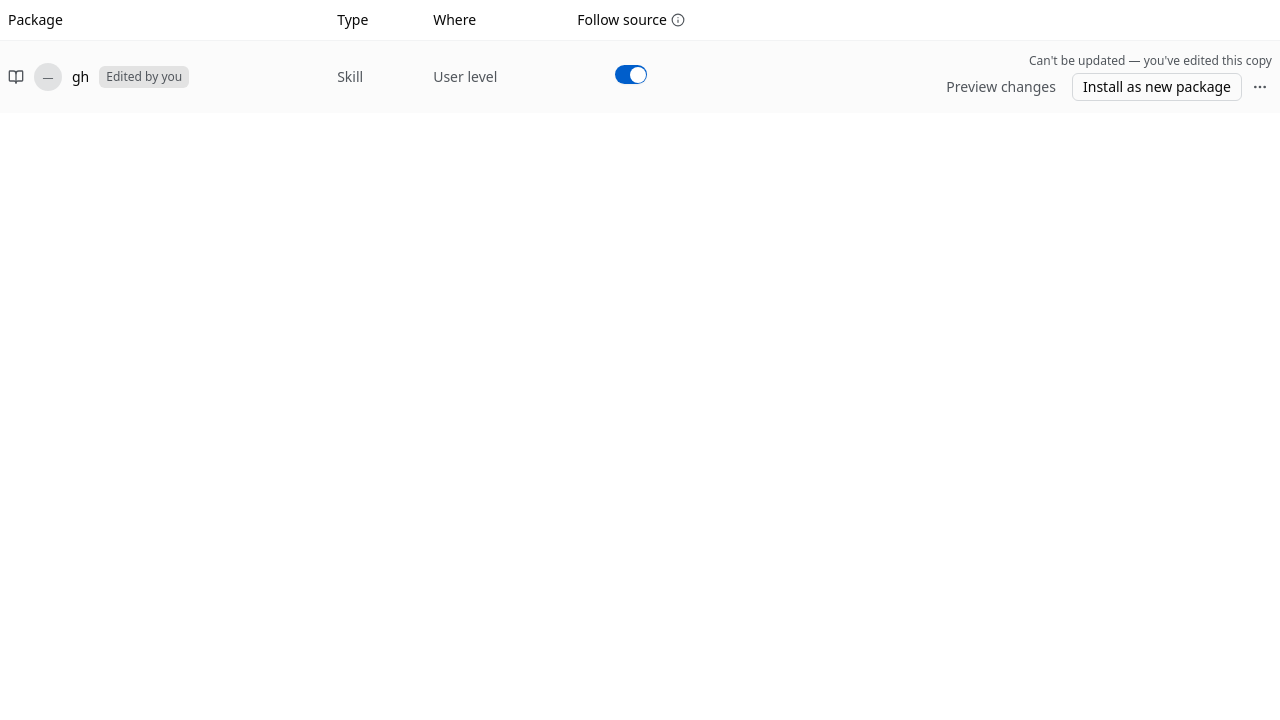
Test case: installing beside an edited place, from the row › asks for the copy's name, proposes one, and sends the engine both names
Click the button "Install as new package" at (1157, 86), box [1072,72,1242,100]
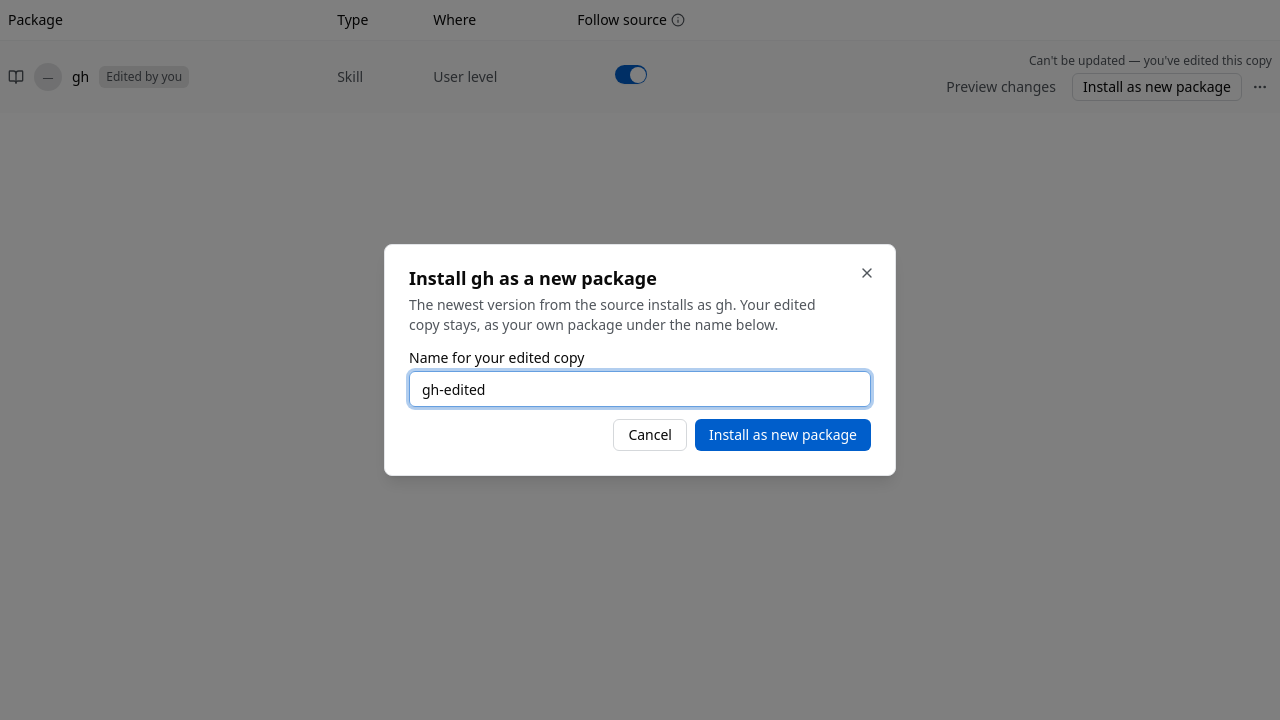
Expected: the dialog shows "Install gh as a new package", [409,266,657,290]
Expected: the dialog shows "Name for your edited copy", [409,348,584,367]
Expected: the field labelled "Name for your edited copy" holds "gh-edited"
Replace the text in the field labelled "Name for your edited copy" with "  gh-mine  " at (640, 389), box [409,371,871,407]
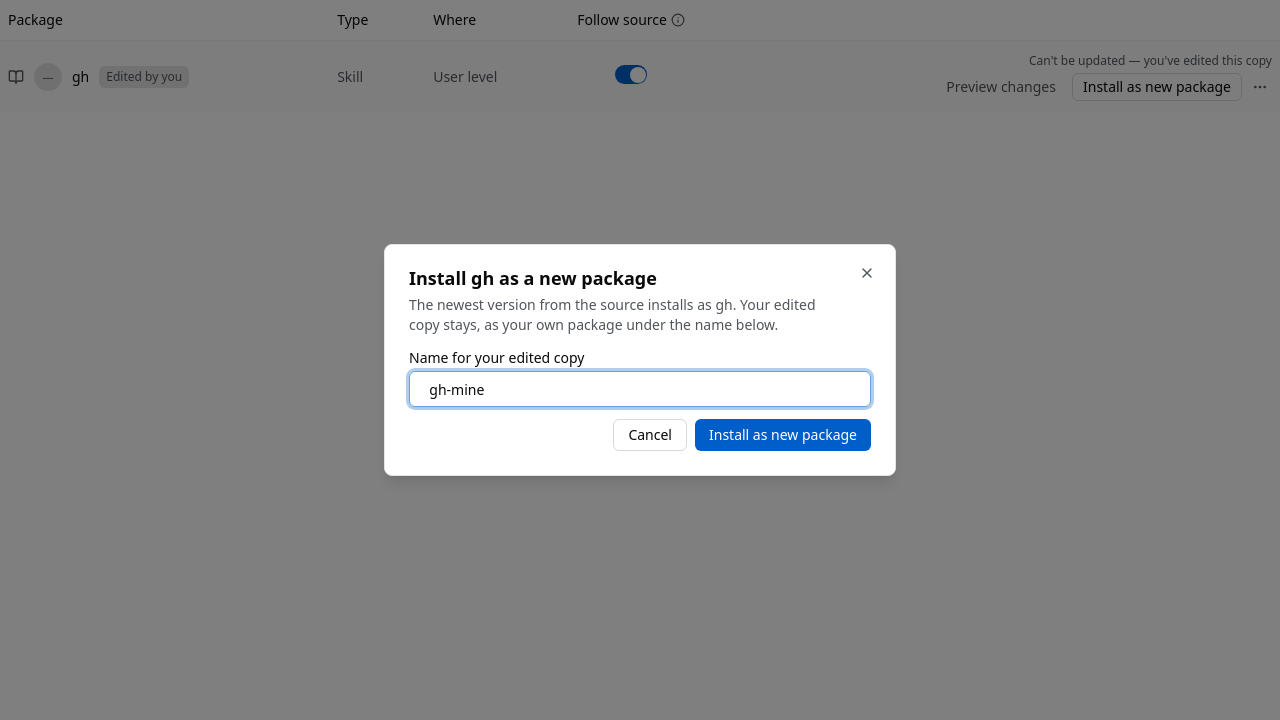
Click the button "Install as new package" at (783, 435), box [695,419,871,451]
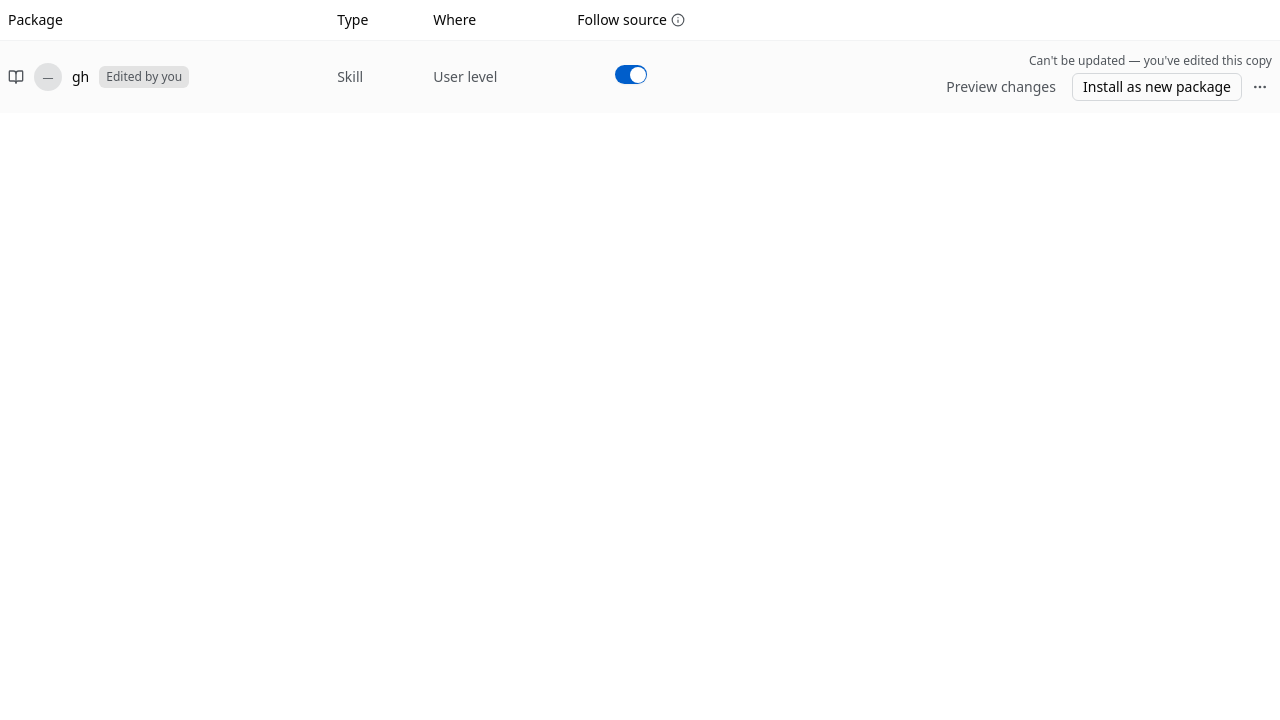
Expected: the dialog is gone
